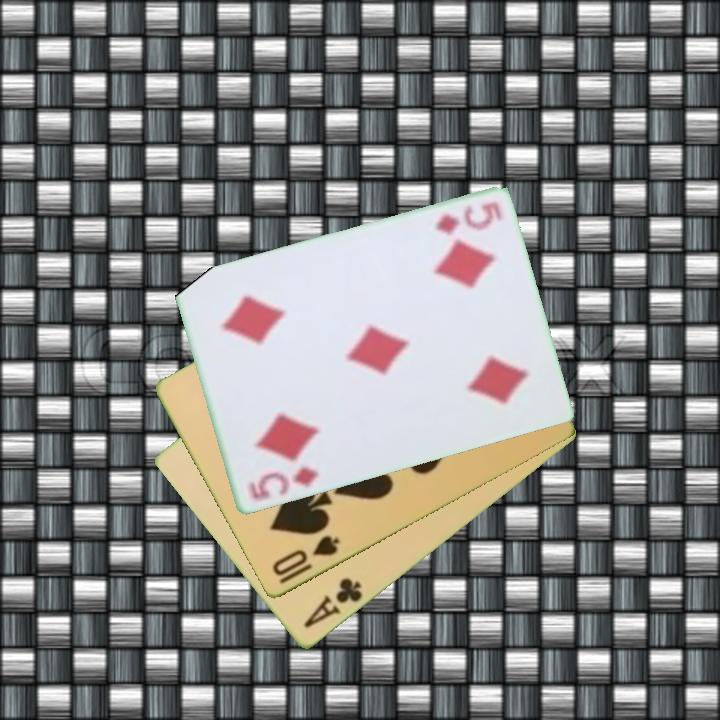10s: (268, 532, 343, 580)
5d: (244, 464, 321, 505), (432, 198, 505, 239)
Ac: (300, 574, 365, 632)
